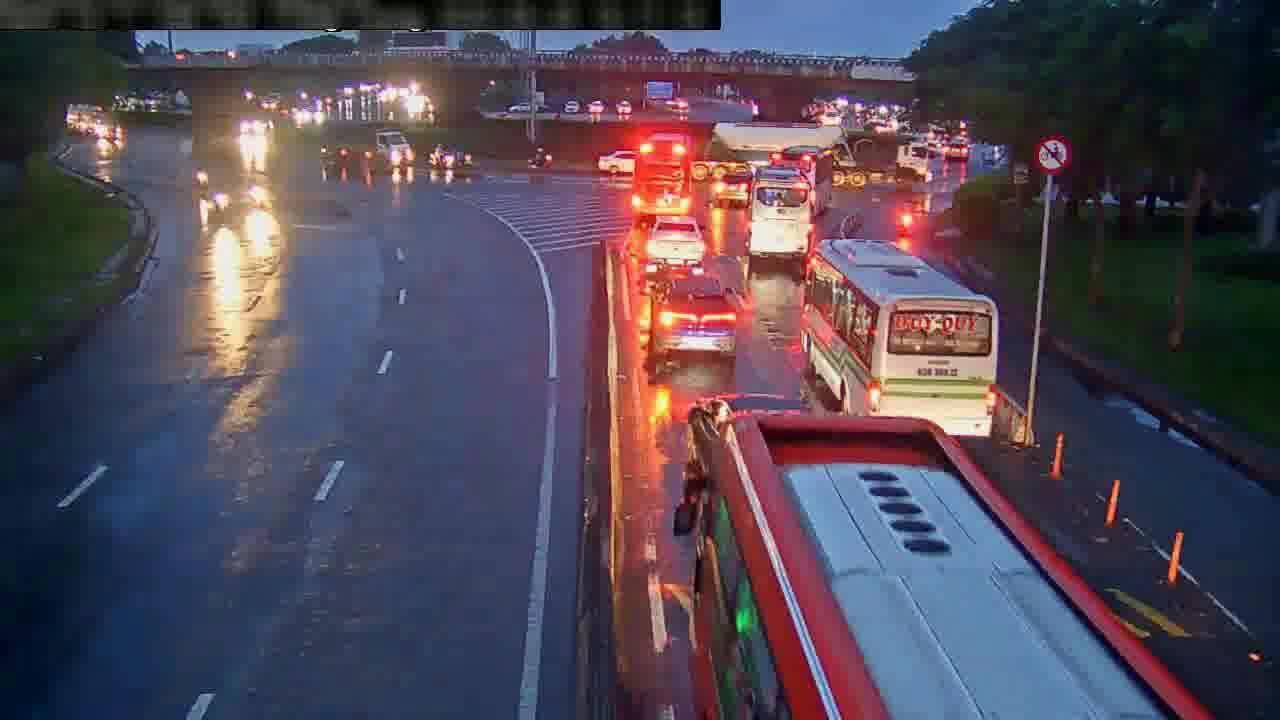14: (672, 413, 1212, 720), (800, 240, 995, 443), (748, 170, 813, 269), (636, 129, 698, 211), (774, 142, 841, 217)
8: (314, 118, 412, 171)
container: (647, 274, 741, 367), (638, 213, 707, 279)
